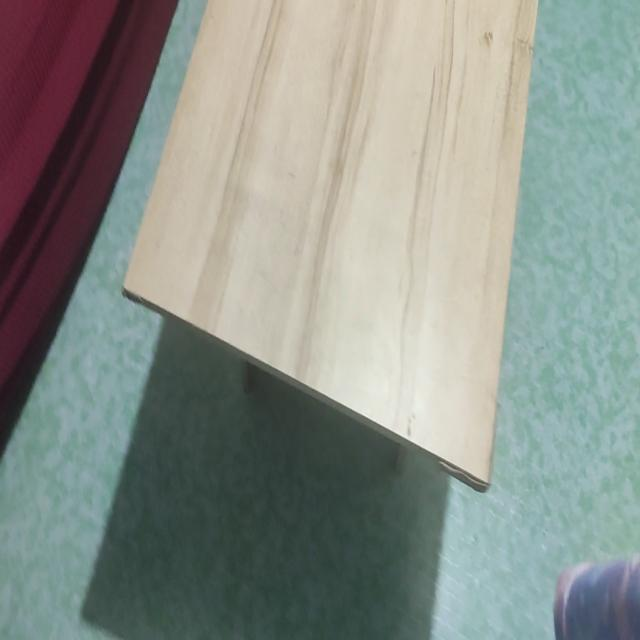table: (117, 0, 554, 506)
